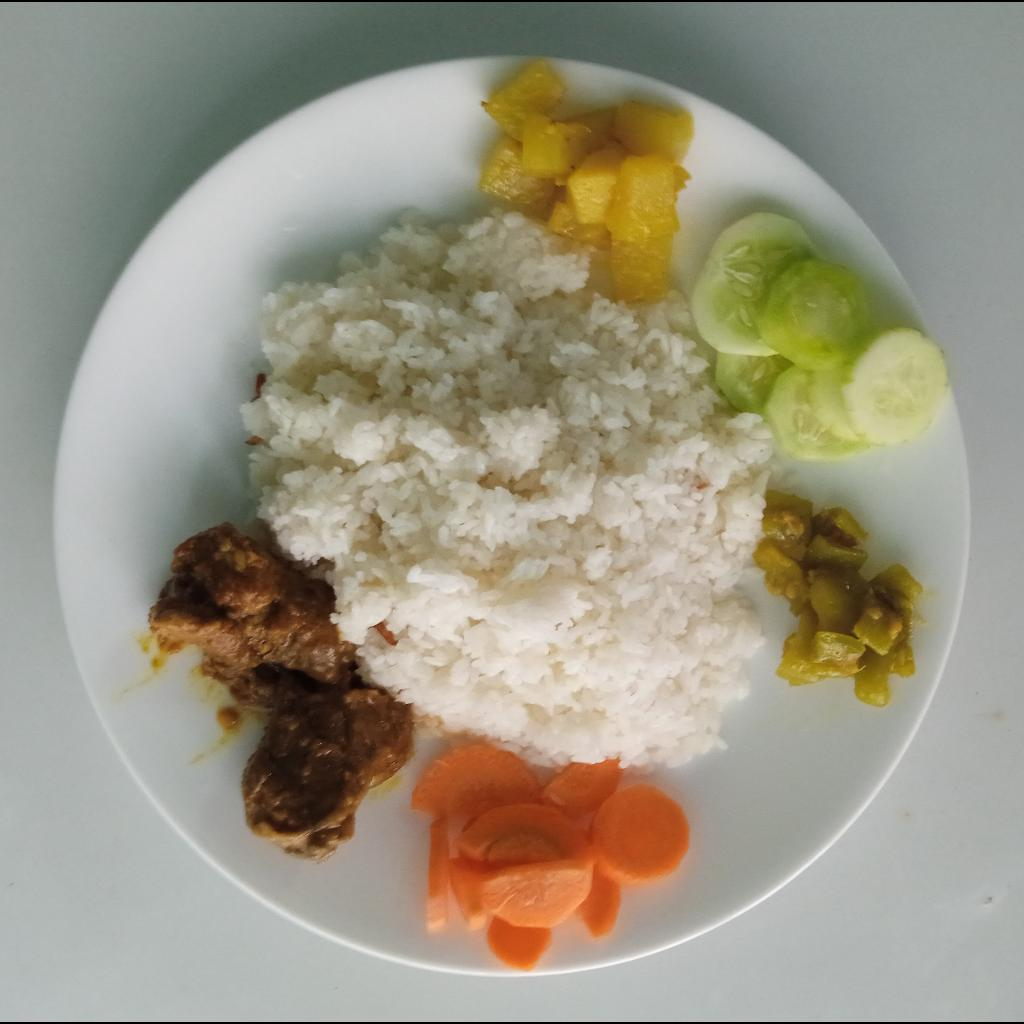beef: (145, 520, 416, 865)
carrot: (411, 740, 689, 972)
cucumber: (689, 213, 949, 464)
dundol: (758, 490, 921, 706)
kumra-vaji: (480, 54, 693, 303)
rice: (238, 209, 768, 769)
